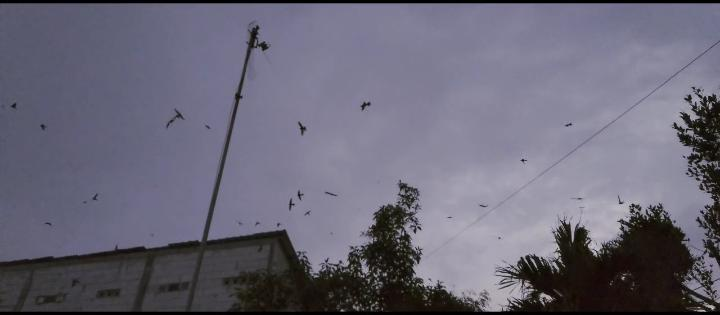walet: (294, 119, 310, 139), (287, 198, 295, 211), (296, 189, 304, 199)
